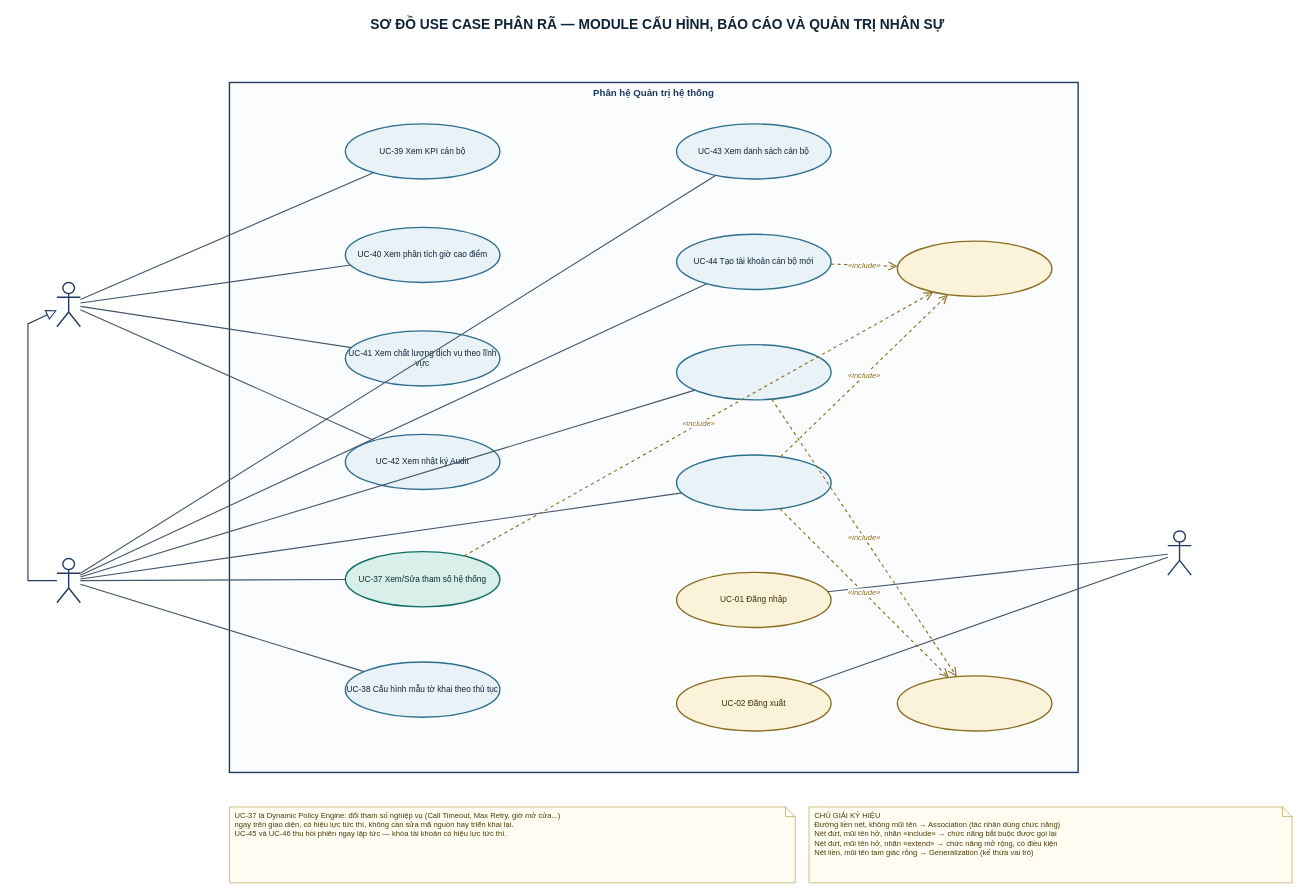
The diagram is 1305 pixels wide and 895 high, and some of its shapes have lost their labels. Here are the shapes that lost their labels. From the top down, the box of each, then its label:
(896, 240, 1052, 297): Kiểm tra Safe Limits và chính sách mật khẩu
(56, 282, 81, 327): Trưởng Trung tâm (Manager)
(676, 344, 831, 400): UC-45 Khóa/Mở khóa tài khoản
(676, 454, 831, 511): UC-46 Đặt lại mật khẩu cán bộ
(1167, 530, 1192, 575): Cán bộ (mọi vai trò)
(56, 558, 81, 603): Quản trị viên (Super Admin)
(896, 675, 1052, 731): Thu hồi toàn bộ phiên đăng nhập
